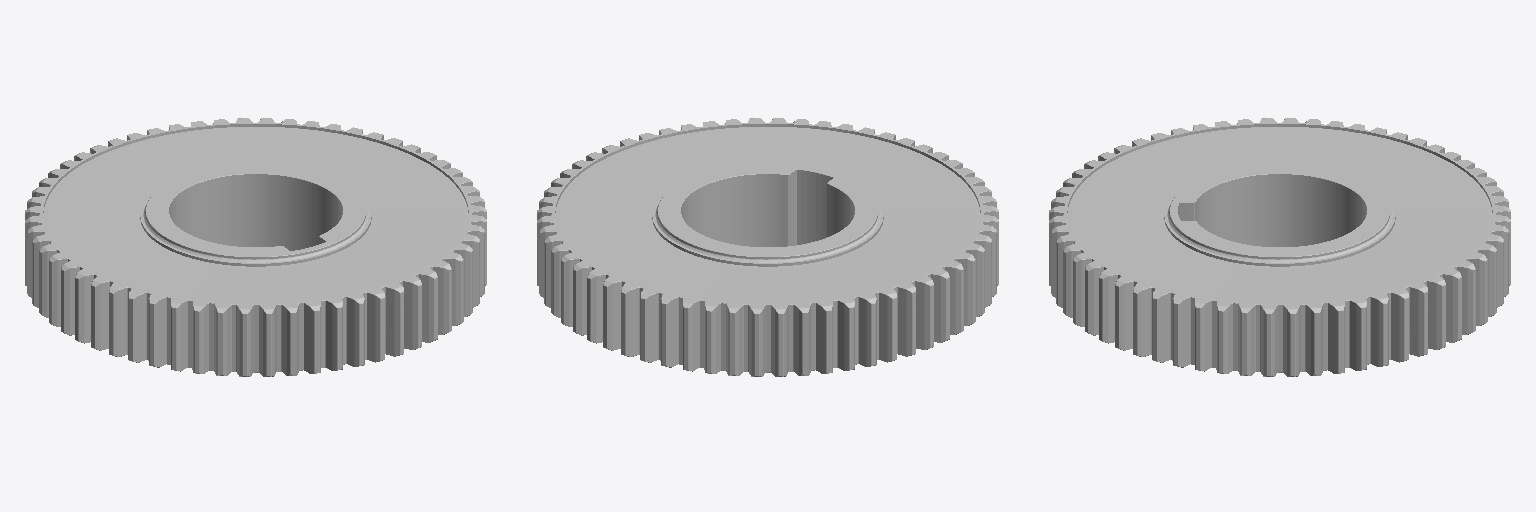
File: Gear.obj
3 renders of one model, left to right at view 1: azimuth 30°, elevation 25°; view 2: azimuth 150°, elevation 25°; view 3: azimuth 270°, elevation 25°, orthographic.
Visible parts, largest first — view 1: gear02; view 2: gear02; view 3: gear02.
Boxes of the visible parts, x1,y1,x2,y2 form: gear02: [25, 118, 486, 376]; gear02: [537, 118, 998, 376]; gear02: [1049, 118, 1510, 376].
Bounding box in the file's own units: 7.91 × 1.72 × 7.91.